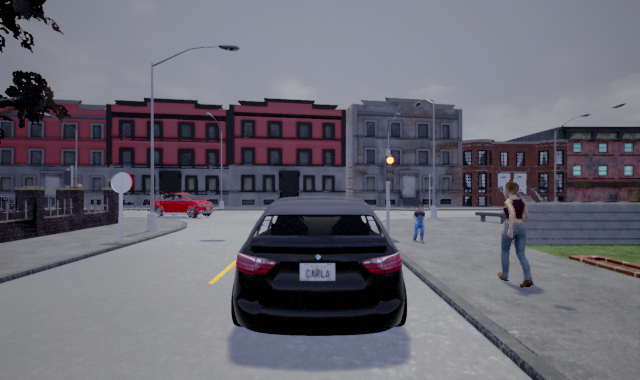pedestrian: (493, 180, 537, 289), (409, 202, 429, 246)
vehicle: (230, 197, 407, 337), (148, 192, 217, 218)
